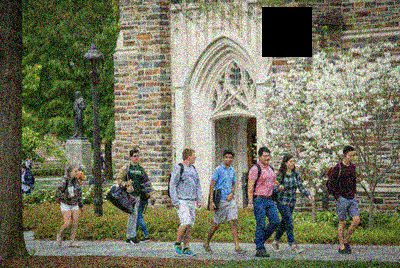without_mask: (261, 152, 271, 163), (346, 152, 356, 163), (225, 154, 234, 166), (287, 158, 296, 169), (133, 153, 140, 163), (191, 152, 197, 163), (73, 168, 79, 177)
